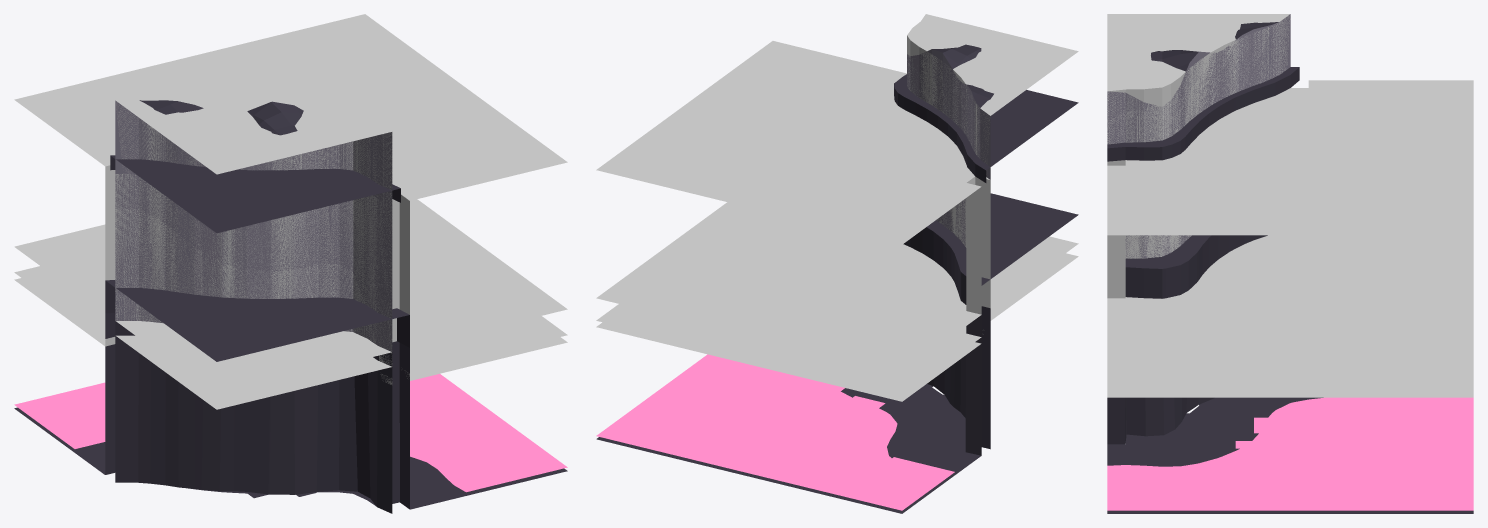
Rendered from Tile_LLLW.fbx.
3 views of the same model, side by side, from view 1: azimuth 30°, elevation 25°; view 2: azimuth 150°, elevation 25°; view 3: azimuth 270°, elevation 25° (orthographic). The views are drawn at different scales.
Visible parts, largest first — view 1: Tile_LLLW, Tile_LLLW_ColCrackBlocker, Tile_LLLW_ColWall, Tile_LLLW_ColGround, Tile_LLLW_ColCrackSurface; view 2: Tile_LLLW_ColCrackBlocker, Tile_LLLW, Tile_LLLW_ColCrackSurface, Tile_LLLW_ColWall, Tile_LLLW_ColGround; view 3: Tile_LLLW_ColCrackBlocker, Tile_LLLW, Tile_LLLW_ColWall, Tile_LLLW_ColCrackSurface.
Boxes of the visible parts, x1,y1,x2,y2 form: Tile_LLLW: [14, 100, 567, 513]; Tile_LLLW_ColCrackBlocker: [14, 14, 567, 350]; Tile_LLLW_ColWall: [115, 100, 392, 394]; Tile_LLLW_ColGround: [116, 321, 392, 409]; Tile_LLLW_ColCrackSurface: [14, 266, 567, 384]; Tile_LLLW_ColCrackBlocker: [596, 41, 990, 372]; Tile_LLLW: [596, 44, 1078, 513]; Tile_LLLW_ColCrackSurface: [596, 304, 983, 401]; Tile_LLLW_ColWall: [907, 14, 1078, 307]; Tile_LLLW_ColGround: [990, 236, 1078, 320]; Tile_LLLW_ColCrackBlocker: [1107, 80, 1473, 367]; Tile_LLLW: [1107, 14, 1473, 513]; Tile_LLLW_ColWall: [1107, 14, 1290, 258]; Tile_LLLW_ColCrackSurface: [1107, 368, 1473, 397].
Size of the model in its own units: 5 by 5.33 by 5.
